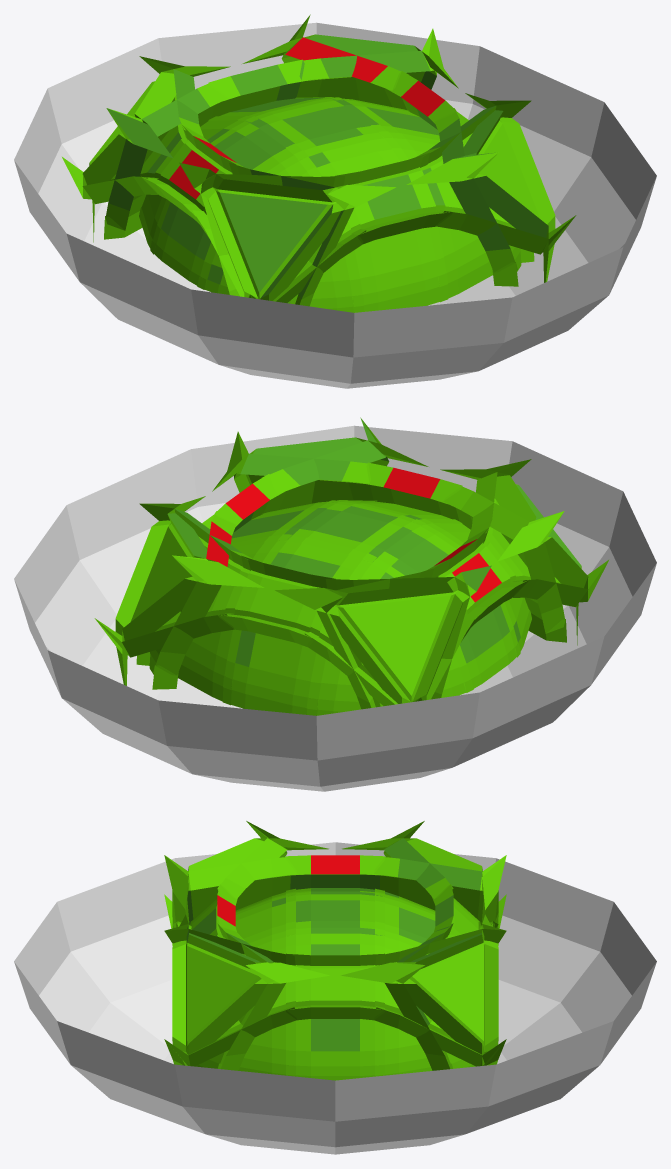
File: Salad.glb
3 views of the same model, one above another, from view 1: azimuth 30°, elevation 25°; view 2: azimuth 150°, elevation 25°; view 3: azimuth 270°, elevation 25° (orthographic). The views are drawn at different scales.
Parts seen in each view (by area): view 1: Cube.002, Sphere.002; view 2: Cube.002, Sphere.002; view 3: Sphere.002, Cube.002.
Part boxes in pixels (x1,y1,x2,y2): Cube.002: [62, 14, 576, 312]; Sphere.002: [14, 22, 656, 388]; Cube.002: [94, 417, 608, 715]; Sphere.002: [14, 425, 656, 791]; Sphere.002: [14, 842, 656, 1154]; Cube.002: [164, 821, 506, 1080].
Bounding box in the file's own units: 0.205 × 0.0857 × 0.2337.
